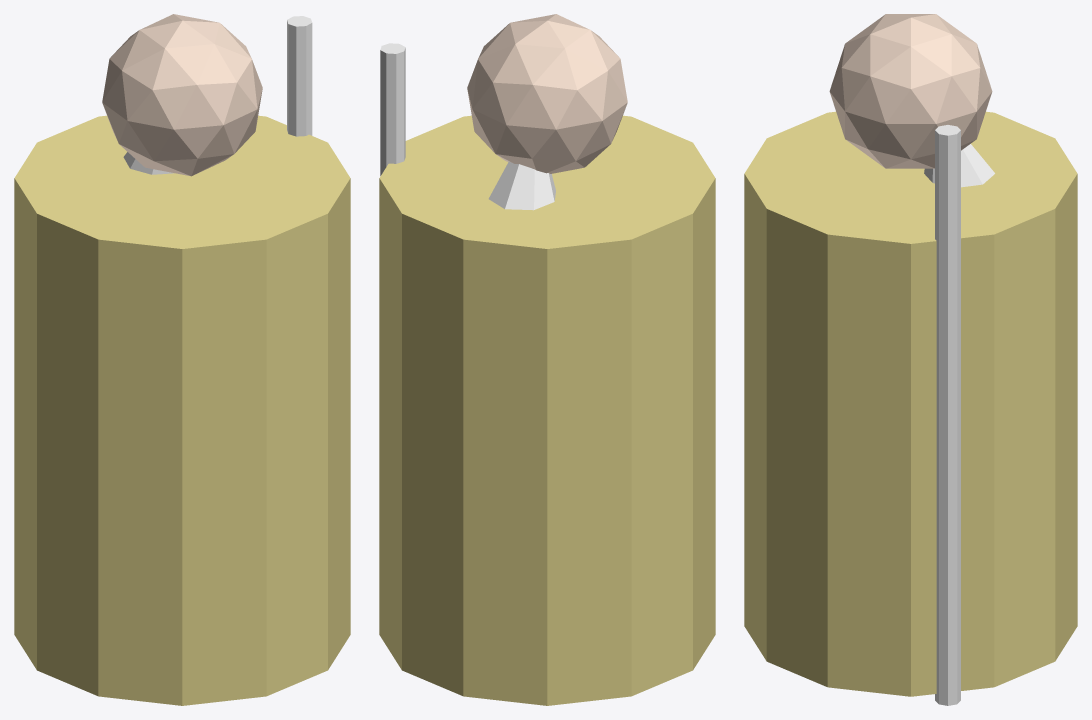
File: npc_elder.glb
The picture shows the model from 3 angles, left to right: view 1: azimuth 30°, elevation 25°; view 2: azimuth 150°, elevation 25°; view 3: azimuth 270°, elevation 25°; orthographic projection.
Parts seen in each view (by area): view 1: Cylinder, Icosphere, Cylinder.001; view 2: Cylinder, Icosphere, Cylinder.001, Cone; view 3: Cylinder, Icosphere, Cylinder.001, Cone.
Part boxes in pixels (<box>): Cylinder: <box>14,115,350,705</box>; Icosphere: <box>102,14,262,176</box>; Cylinder.001: <box>287,16,312,136</box>; Cylinder: <box>379,115,715,705</box>; Icosphere: <box>467,14,627,173</box>; Cylinder.001: <box>380,43,405,175</box>; Cone: <box>488,161,555,210</box>; Cylinder: <box>744,111,1077,696</box>; Icosphere: <box>829,14,992,168</box>; Cylinder.001: <box>935,125,960,705</box>; Cone: <box>924,144,994,187</box>.
Size of the model in its own units: 0.905 by 1.84 by 0.9.
